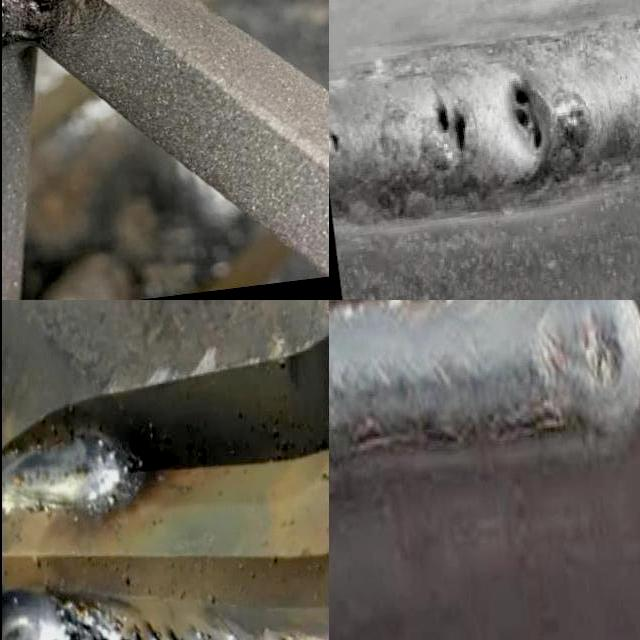defect: (503, 72, 548, 159), (424, 86, 470, 163), (327, 126, 344, 158)
